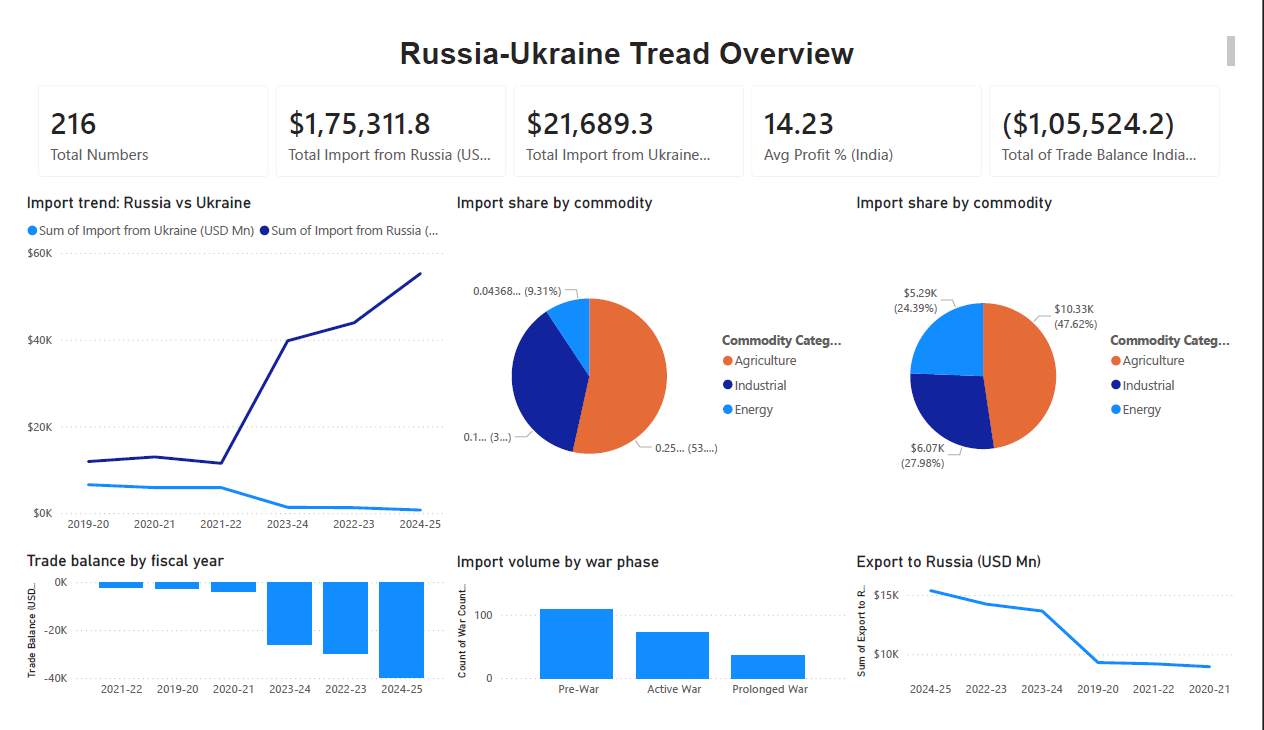

The dashboard page shown, as its layout file describes it:
{"tool":"powerbi","page":{"name":"Russia-Ukraine Tread Overview","canvas":[1280,720],"ordinal":0},"visuals":[{"type":"cardVisual","title":"dsf","fields":{"Data":["CountNonNull(Trade Dataset.Row ID)","Sum(Trade Dataset.Import from Russia (USD Mn))","Sum(Trade Dataset.Import from Ukraine (USD Mn))","Trade Dataset.Avg Profit % (India)","Sum(Trade Dataset.Trade Balance India (USD Mn))"]},"box":[0,49.8,1280,130.6],"z":0},{"type":"textbox","box":[0,10,1280,43.5],"z":1000},{"type":"lineChart","title":"Import trend: Russia vs Ukraine","fields":{"Y":["Sum(Trade Dataset.Import from Ukraine (USD Mn))","Sum(Trade Dataset.Import from Russia (USD Mn))"],"Category":["Trade Dataset.Fiscal Year"]},"box":[0,180,452.5,366.3],"z":2000},{"type":"pieChart","title":"Import share by commodity","fields":{"Y":["Trade Dataset.Ukraine Import share %"],"Category":["Trade Dataset.Commodity Category"]},"box":[452.5,180,419,366.3],"z":3000},{"type":"pieChart","title":"Import share by commodity","fields":{"Category":["Trade Dataset.Commodity Category"],"Y":["Sum(Trade Dataset.Import from Ukraine (USD Mn))"]},"box":[871.5,180,408.8,366.3],"z":4000},{"type":"columnChart","title":"Trade balance by fiscal year","fields":{"Y":["Trade Dataset.Trade Balance (USD Mn)"],"Category":["Trade Dataset.Fiscal Year"]},"box":[0,556,452,164],"z":5000},{"type":"clusteredColumnChart","title":" Import volume by war phase","fields":{"Category":["Trade Dataset.War Phase"],"Y":["CountNonNull(Trade Dataset.War Countries)"]},"box":[452.5,556.6,419,163.2],"z":6000},{"type":"lineChart","title":"Export to Russia (USD Mn)","fields":{"Y":["Sum(Trade Dataset.Export to Russia (USD Mn))"],"Category":["Trade Dataset.Fiscal Year"]},"box":[872,557,408,163],"z":7000}]}

Visuals, with their boxes in screenshot pixels (x1, y1, x2, y2), scaled from the page's 1280x720 canvas onto the 1264x730 screenshot:
"dsf" cardVisual: 0/50/1263/183
textbox: 0/10/1263/54
"Import trend: Russia vs Ukraine" lineChart: 0/182/447/554
"Import share by commodity" pieChart: 447/182/861/554
"Import share by commodity" pieChart: 861/182/1263/554
"Trade balance by fiscal year" columnChart: 0/564/446/729
" Import volume by war phase" clusteredColumnChart: 447/564/861/729
"Export to Russia (USD Mn)" lineChart: 861/565/1263/729
